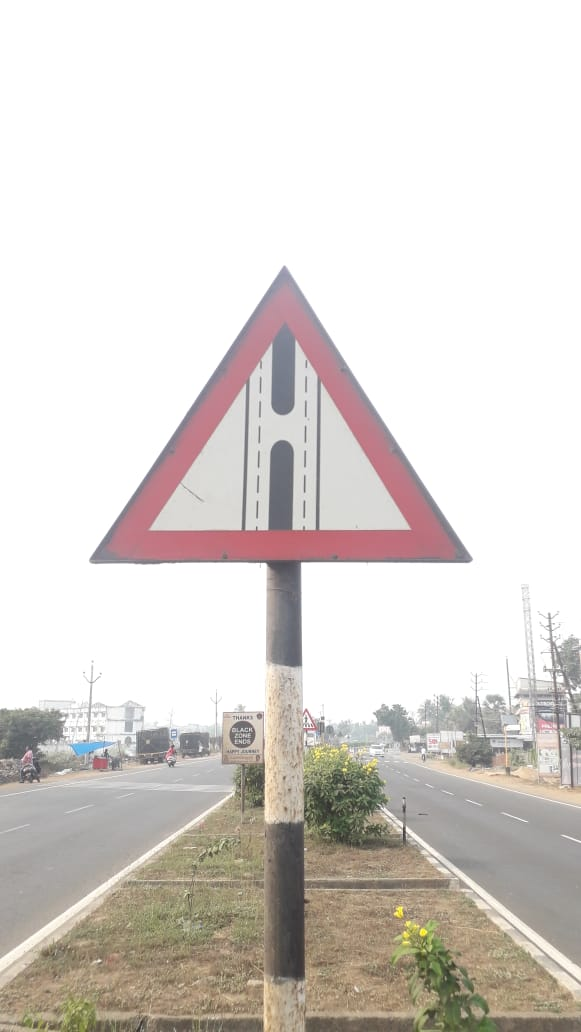highway go straight: (85, 262, 533, 594)
